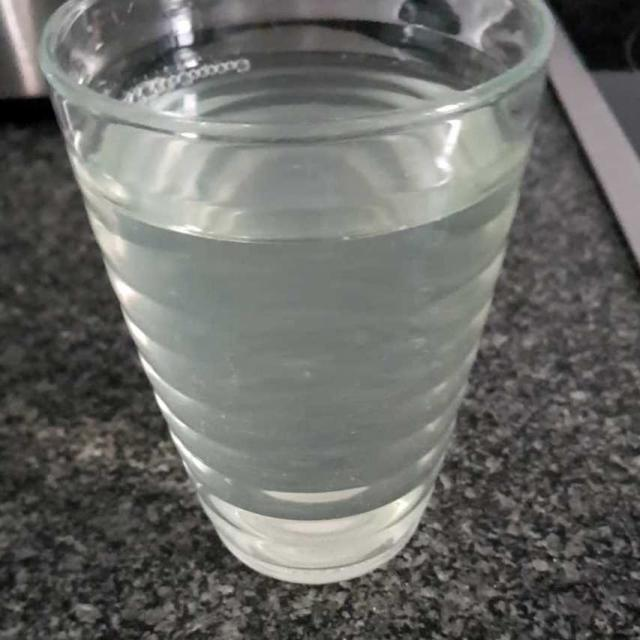water: (71, 33, 523, 556)
